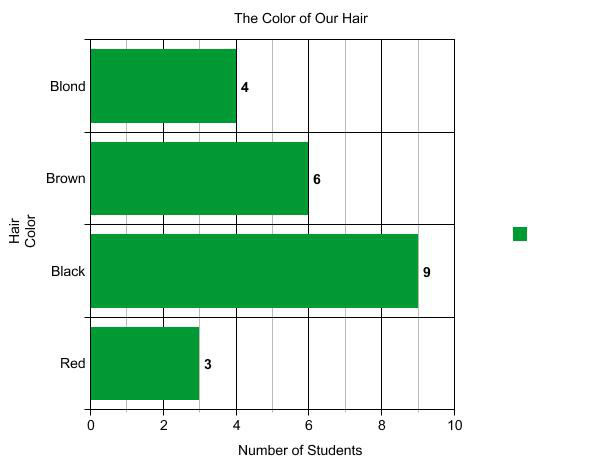canvas: (96, 44, 453, 406)
legend: (507, 219, 583, 262)
title: (230, 6, 372, 32)
x-axis: (84, 406, 464, 417)
x-labels: (82, 419, 469, 431)
x-title: (232, 439, 366, 461)
y-axis: (85, 35, 95, 421)
y-labels: (44, 74, 88, 375)
y-title: (8, 206, 38, 252)
